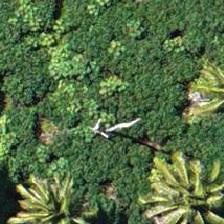Kelapa_Sawit: (11, 157, 102, 223), (147, 151, 223, 223)
